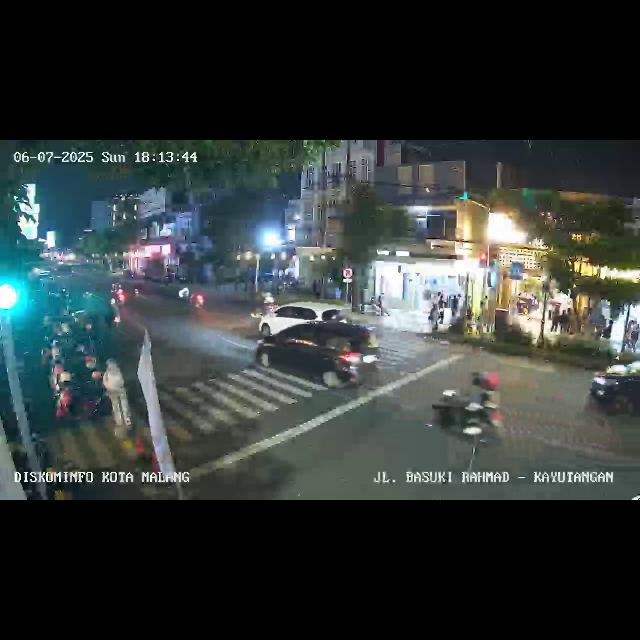car: (259, 318, 379, 394), (586, 353, 640, 422), (259, 301, 349, 339)
motorcycle: (432, 369, 504, 443), (188, 286, 206, 316), (110, 281, 126, 309)
person: (98, 360, 138, 430), (424, 302, 438, 338), (560, 304, 572, 336), (549, 302, 559, 334), (449, 293, 459, 325), (438, 297, 447, 327), (604, 318, 614, 344), (631, 324, 639, 350)
